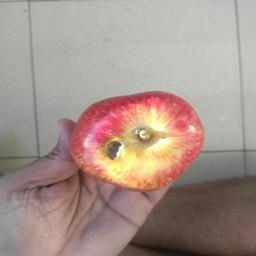Bad_apple: (65, 87, 206, 191)
